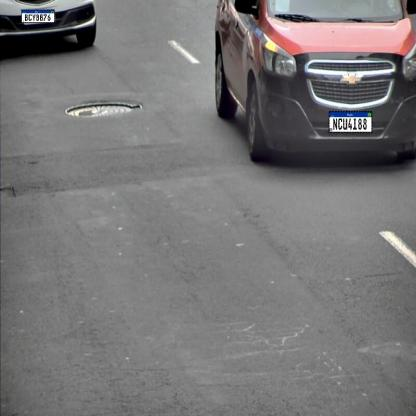PlacaM: (329, 111, 372, 133), (21, 10, 55, 23)
